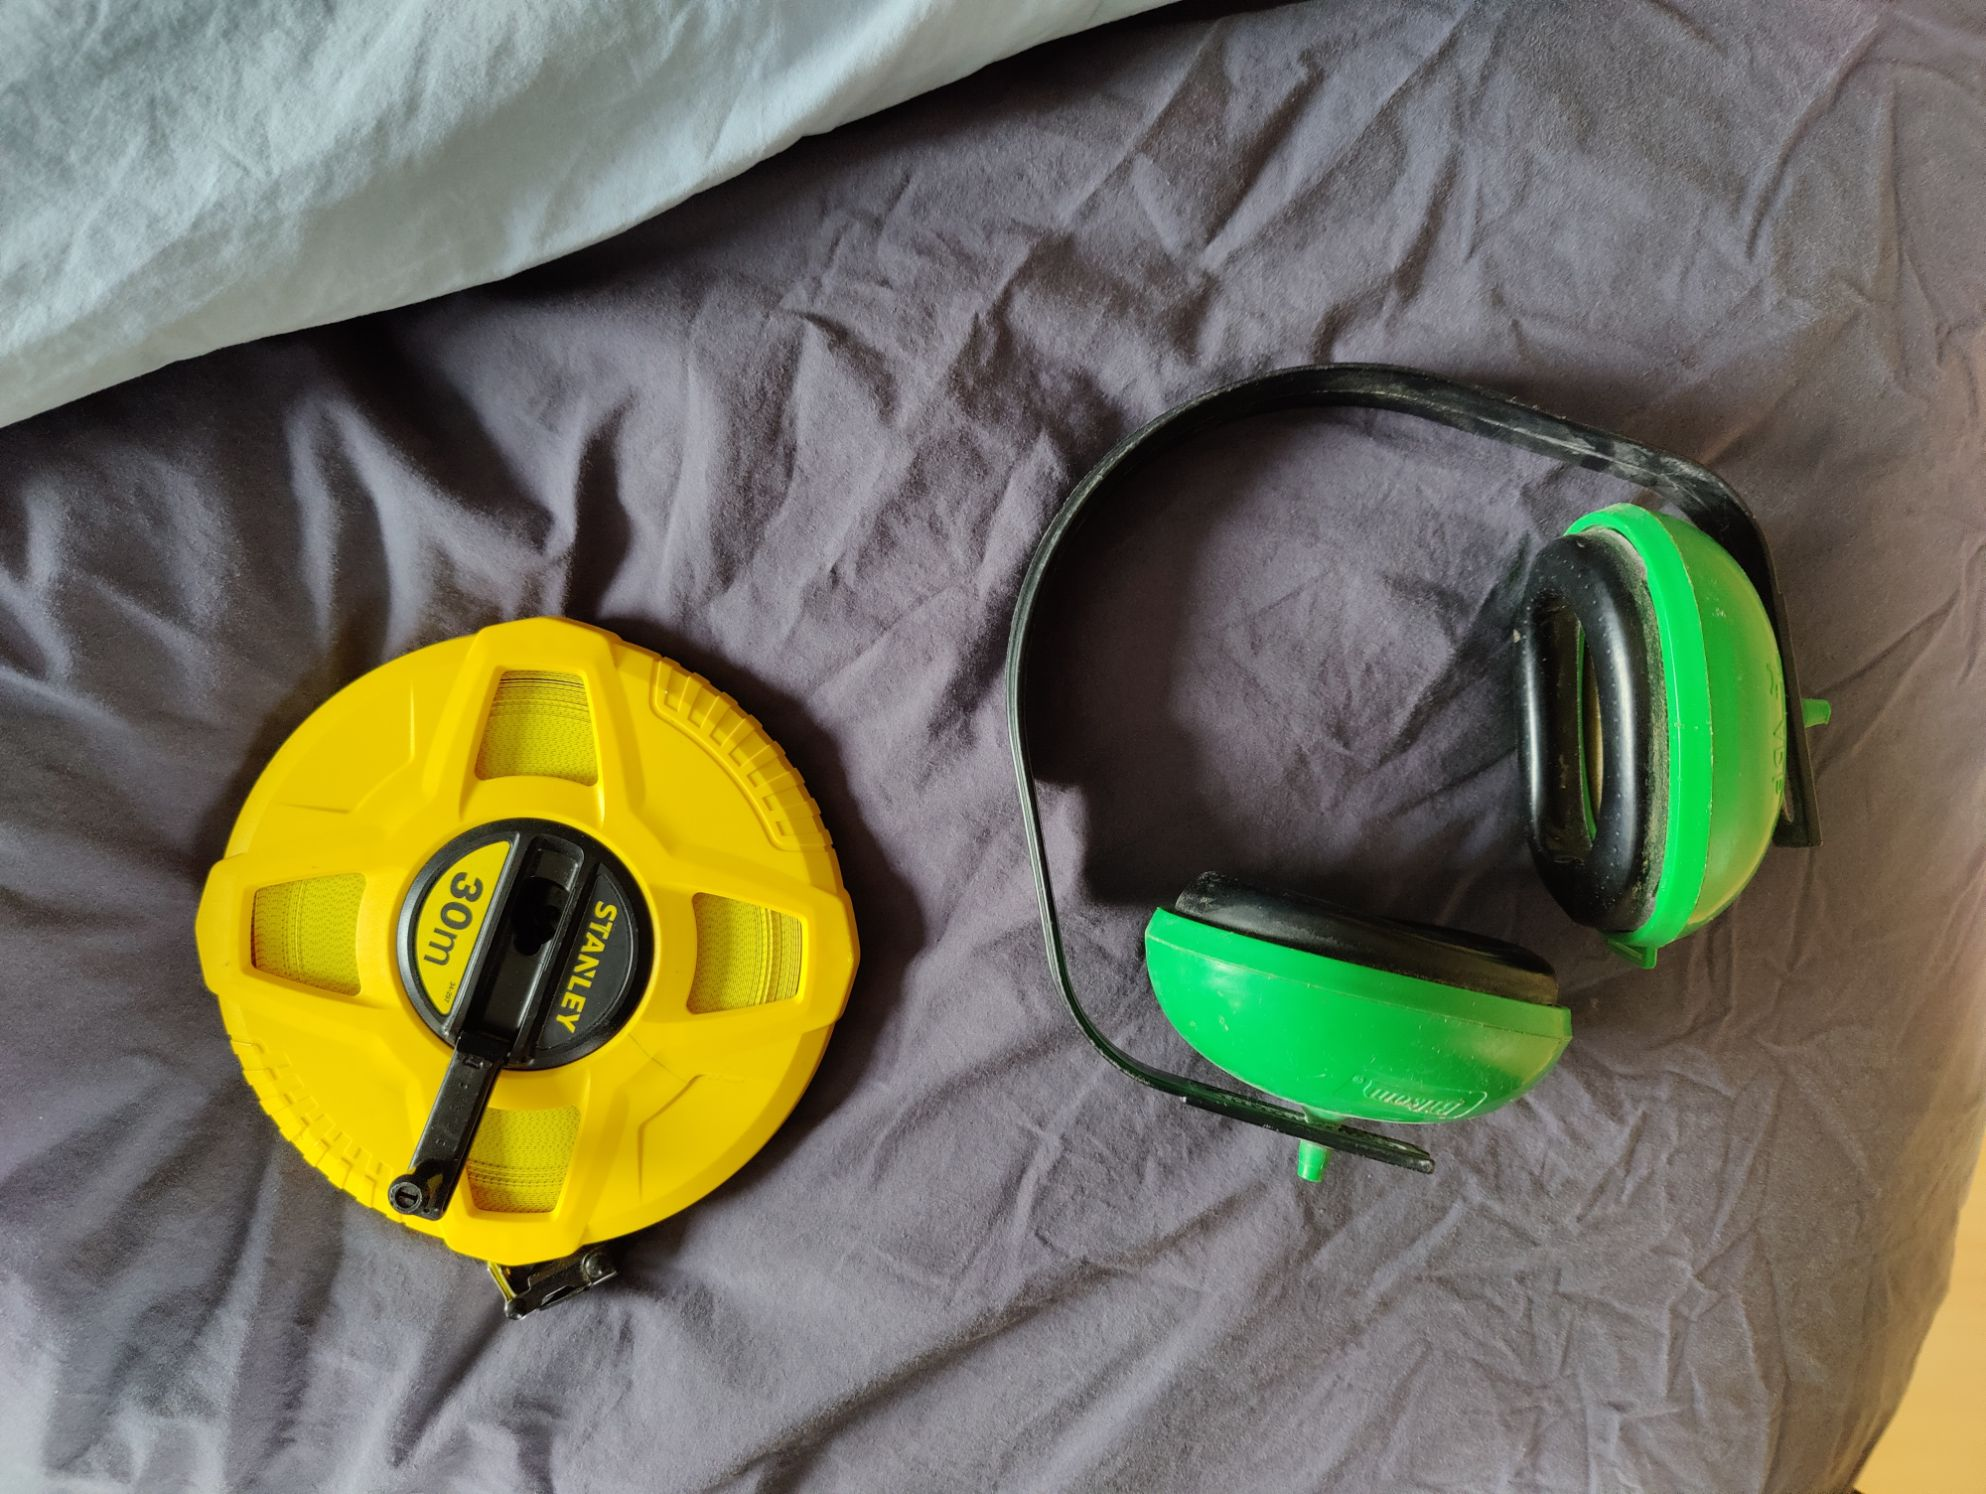headphones: (1001, 391, 1837, 1194)
tapemeasure: (195, 610, 864, 1317)
